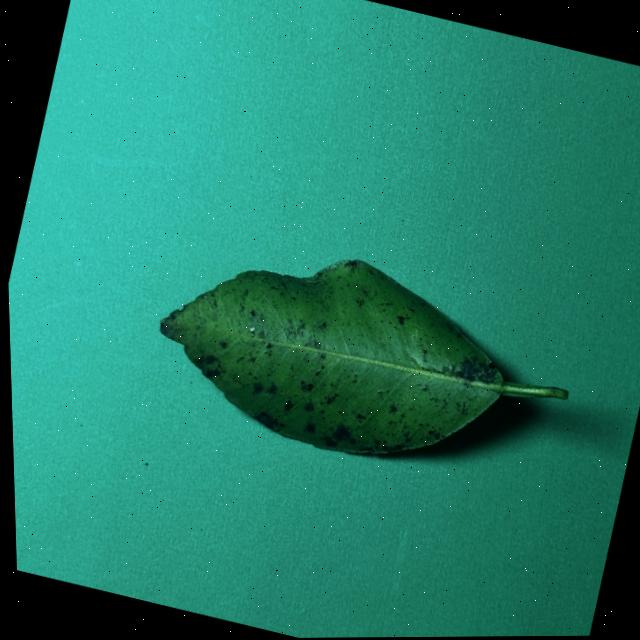sooty_mold: (160, 259, 567, 453)
